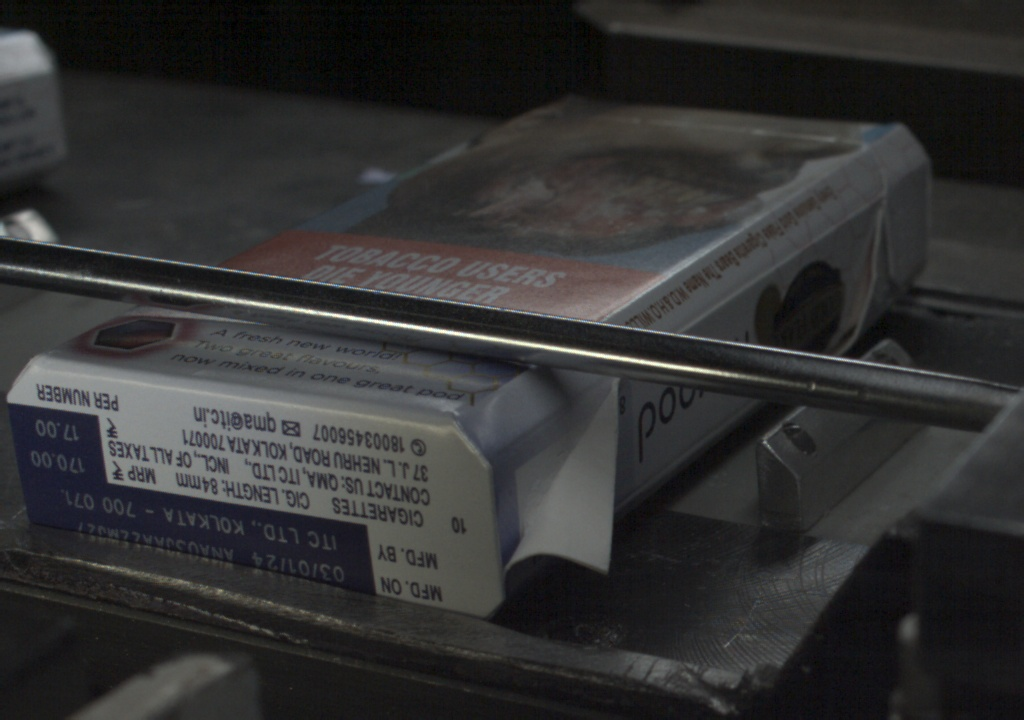g_bottom: (6, 362, 486, 623)
g_label: (17, 483, 373, 597)
g_lmiter: (676, 265, 777, 330), (777, 200, 873, 265)
ng_lmiter: (508, 377, 625, 573)
ng_miter: (877, 171, 931, 281)
price: (12, 412, 104, 482)
